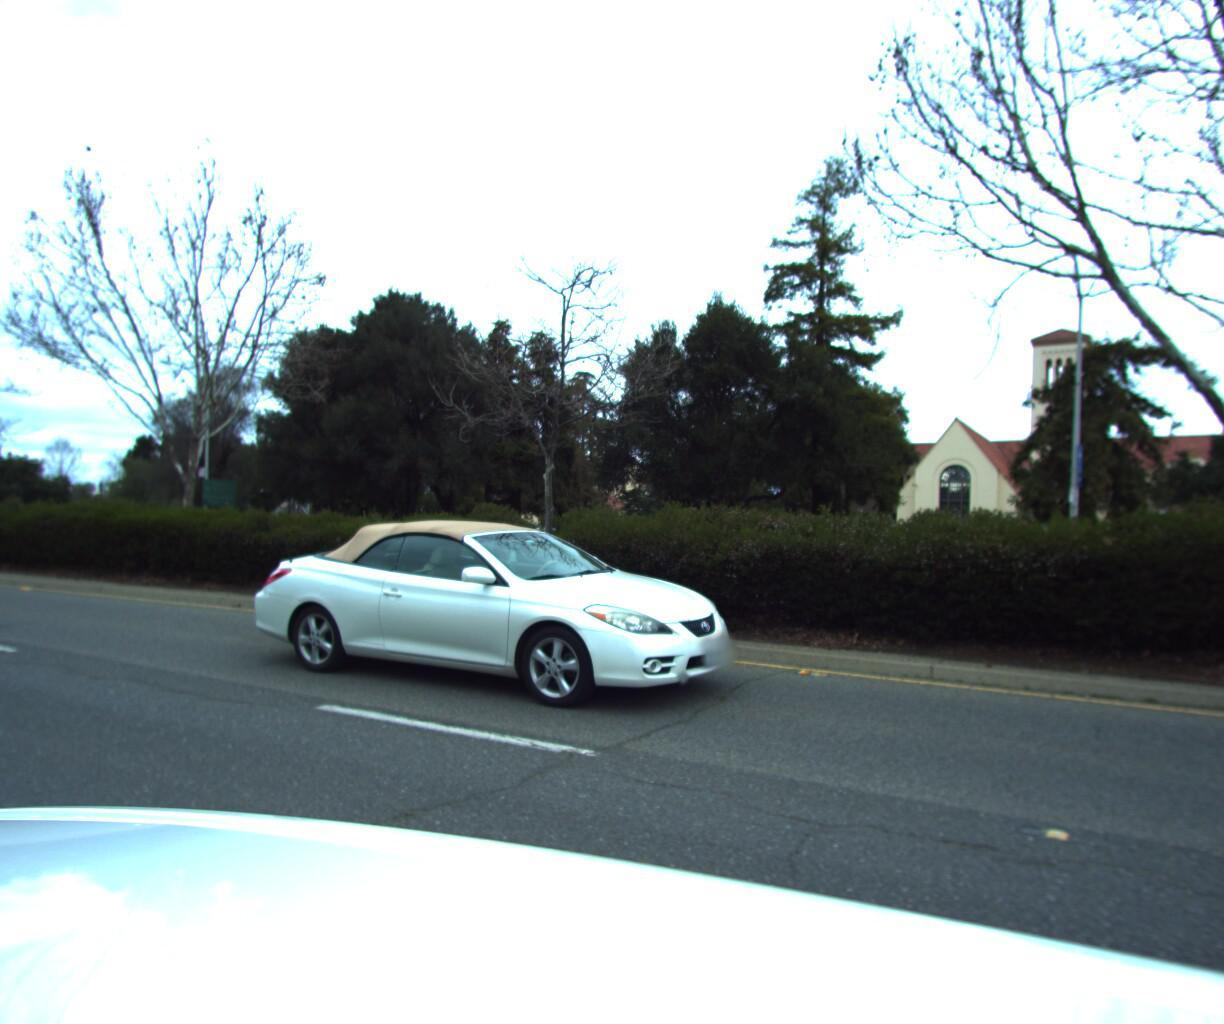car: (231, 505, 743, 730)
